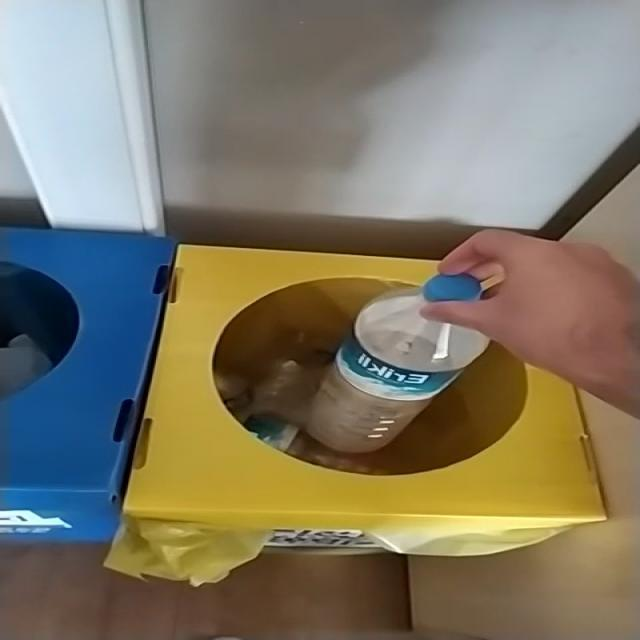Plastic: (305, 274, 489, 453)
